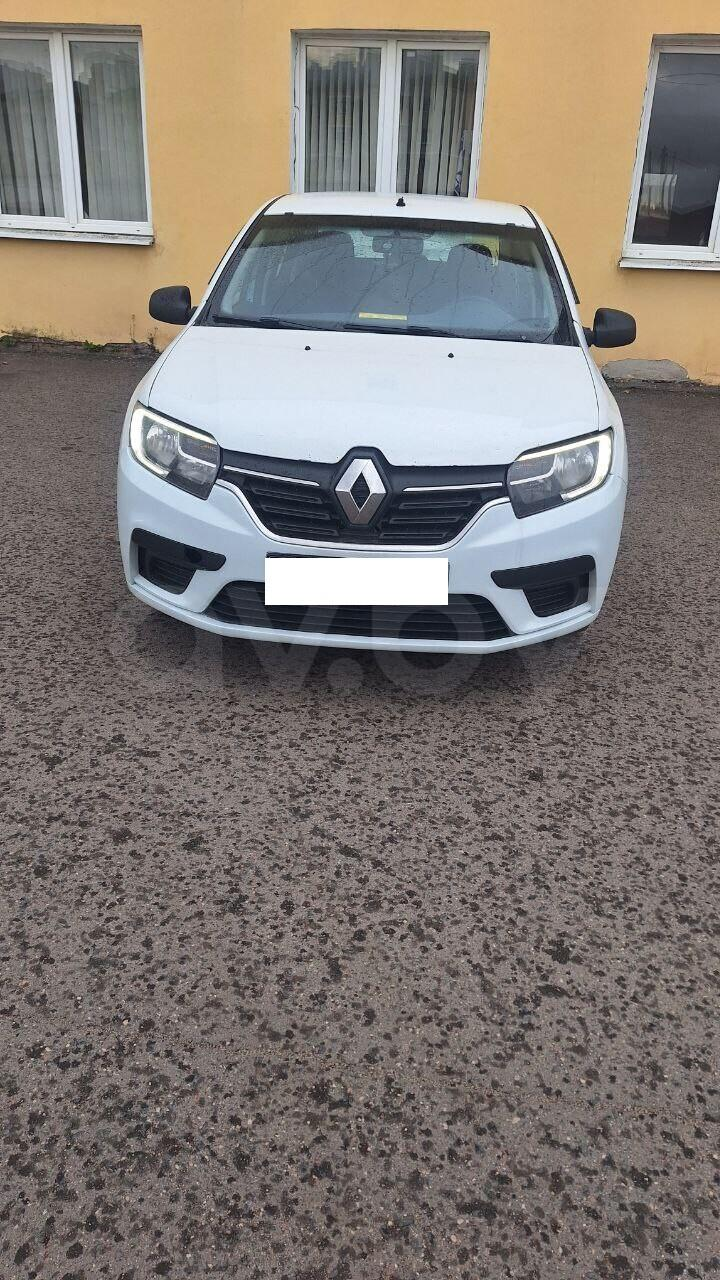Logan_2018: (113, 185, 632, 688)
